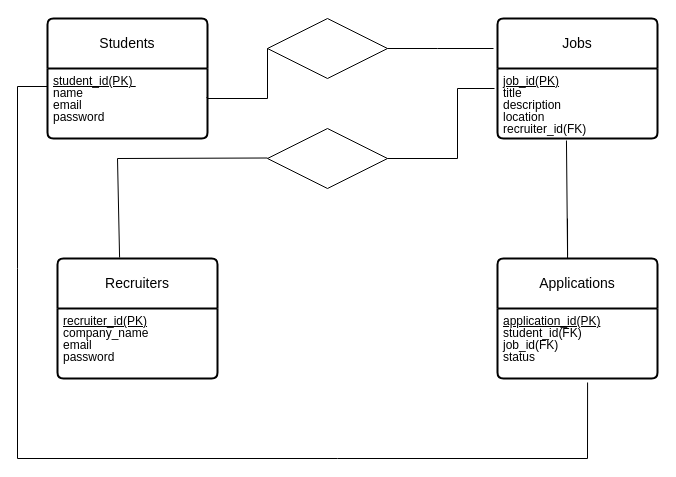
Some shapes in this 676 by 477 pixel diagram are drawn without their labels. Each missing label, with the centre of its shape:
"Applies" belongs at (x=327, y=48).
"Posts" belongs at (x=327, y=158).
